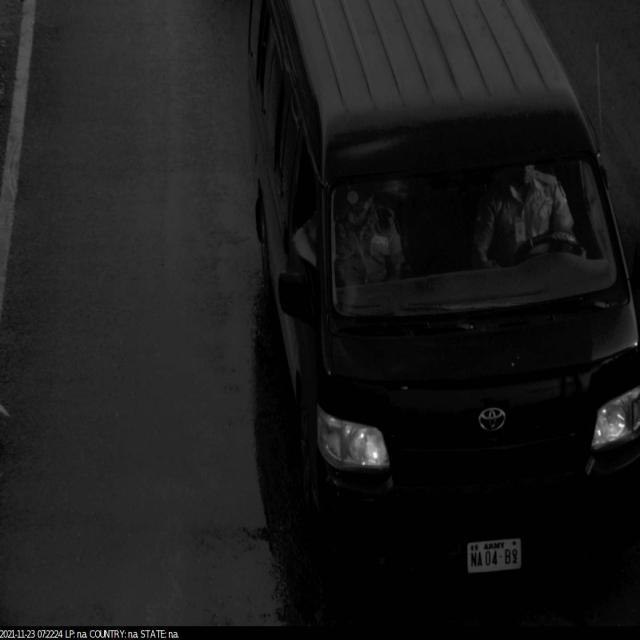windshield: (310, 126, 620, 332)
